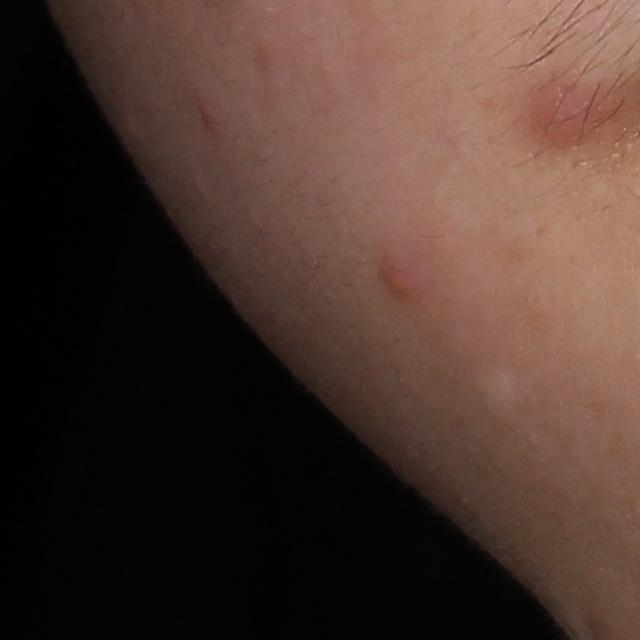hypertrophic_scar: (470, 365, 525, 422)
papule: (527, 82, 587, 163), (376, 256, 424, 302), (197, 96, 217, 130)
